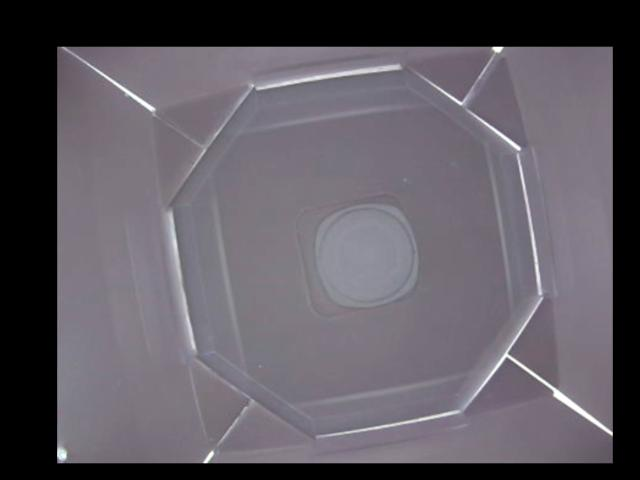Cup: (296, 195, 420, 318)
